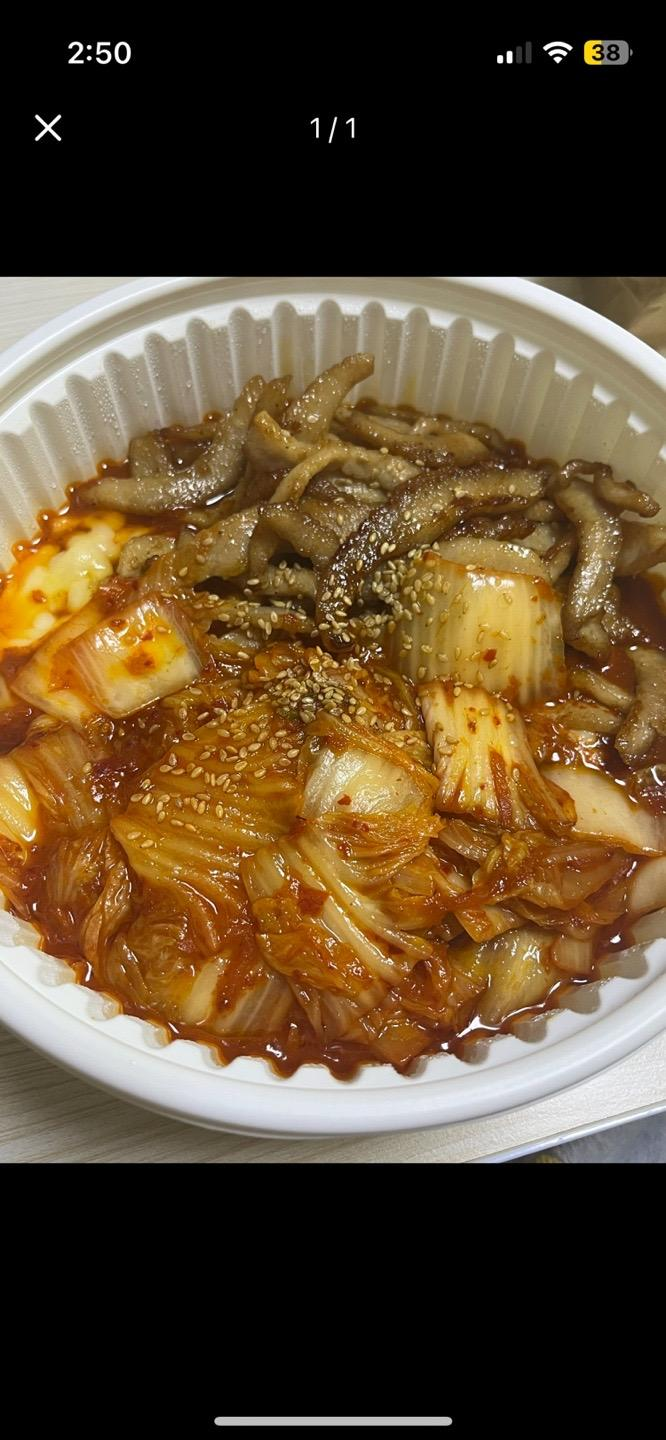Lunch Box: (0, 278, 665, 1136)
